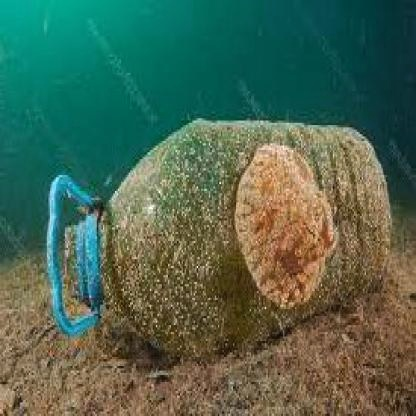pbottle: (35, 109, 393, 339)
